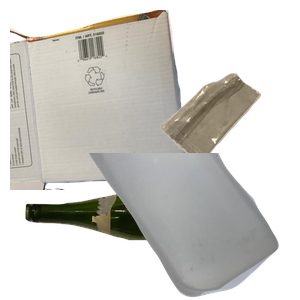cardboard: (10, 10, 191, 190)
glass: (23, 186, 249, 300)
plastic: (84, 153, 300, 300)
trash: (158, 71, 300, 227)
